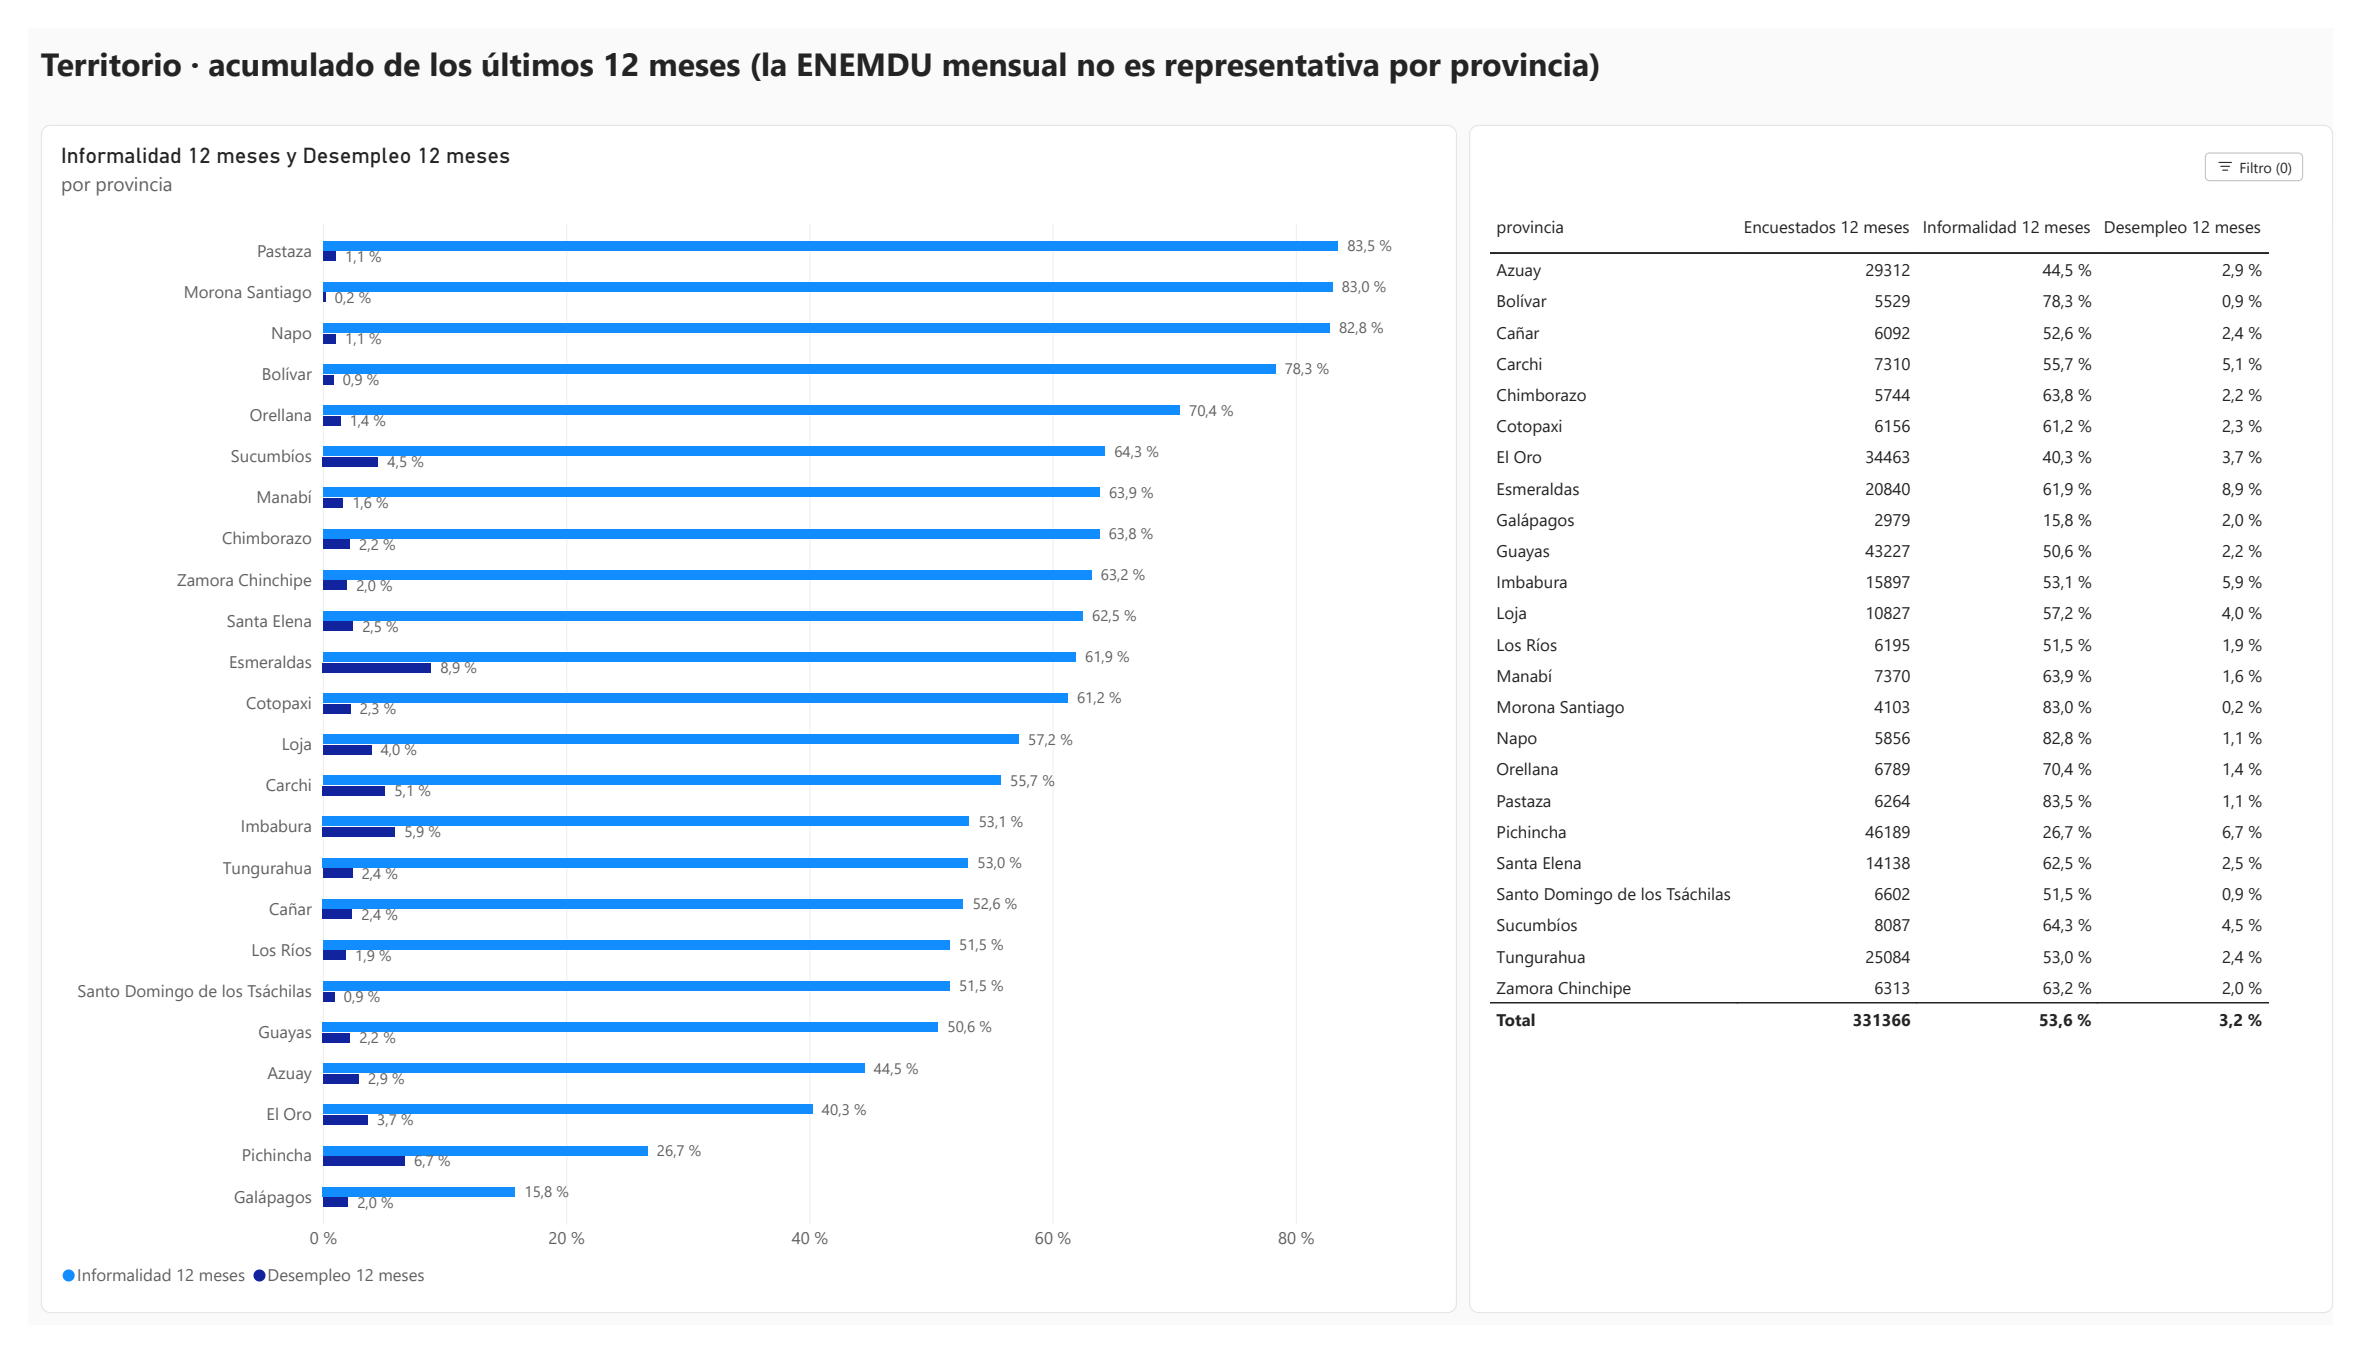

Layout of this report page (visuals, bound fields, positions):
{"tool":"powerbi","page":{"name":"Territorio","canvas":[1920,1080],"ordinal":2},"visuals":[{"type":"clusteredBarChart","fields":{"Category":["bi_mercado_laboral.provincia"],"Y":["bi_mercado_laboral.Informalidad 12 meses","bi_mercado_laboral.Desempleo 12 meses"]},"box":[10,80,1180,990],"z":0},{"type":"tableEx","fields":{"Values":["bi_mercado_laboral.provincia","bi_mercado_laboral.Encuestados 12 meses","bi_mercado_laboral.Informalidad 12 meses","bi_mercado_laboral.Desempleo 12 meses"]},"box":[1200,80,720,990],"z":1000},{"type":"textbox","box":[10,10,1867,60],"z":2000}]}

Visuals, with their boxes in screenshot pixels (x1, y1, x2, y2), scaled from the page's 1920x1080 canvas onto the 2362x1354 screenshot:
clusteredBarChart - bi_mercado_laboral.provincia x bi_mercado_laboral.Informalidad 12 meses: x1=12, y1=100, x2=1464, y2=1341
tableEx - bi_mercado_laboral.provincia x bi_mercado_laboral.Encuestados 12 meses: x1=1476, y1=100, x2=2361, y2=1341
textbox: x1=12, y1=13, x2=2309, y2=88
